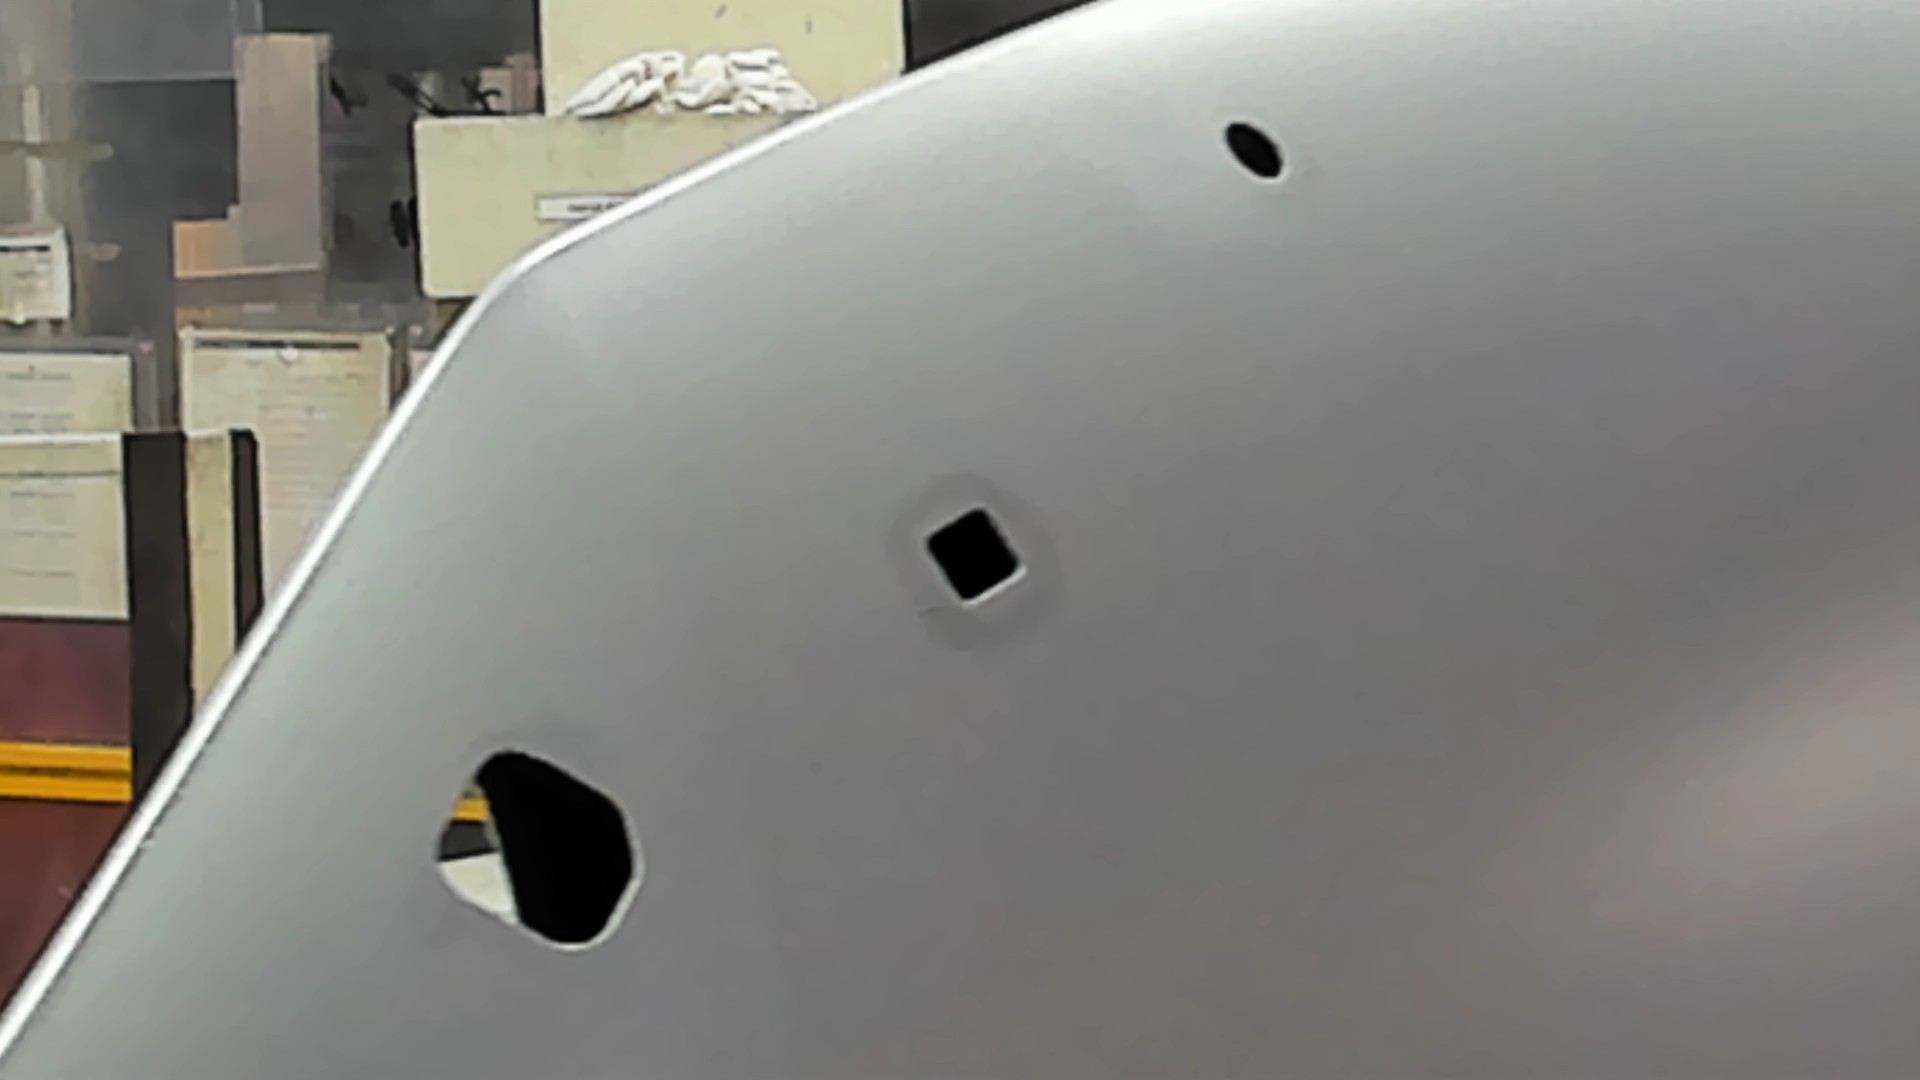chico: (1218, 113, 1292, 190)
grande: (429, 746, 647, 960)
mediano: (918, 501, 1030, 618)
